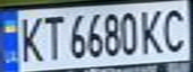0: (118, 8, 142, 56)
6: (63, 11, 87, 60), (84, 10, 106, 60)
8: (103, 9, 124, 57)
C: (157, 3, 193, 54)
K: (136, 6, 169, 55), (15, 12, 45, 64)
T: (39, 11, 66, 62)
